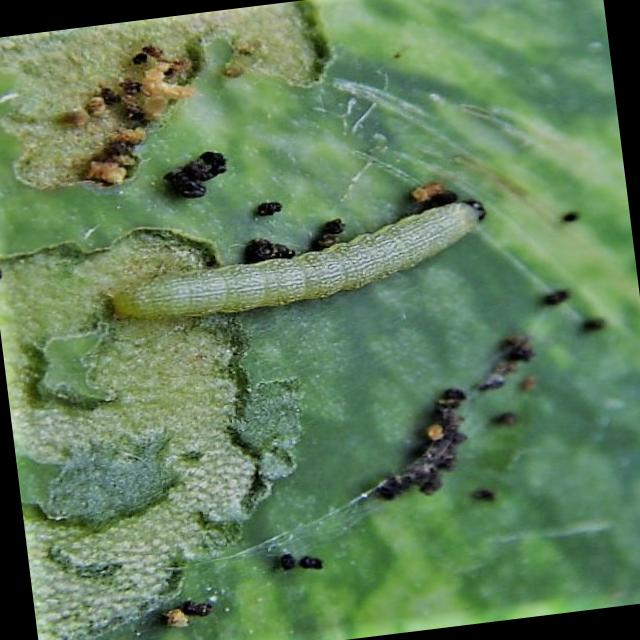Armyworm: (80, 200, 492, 357)
